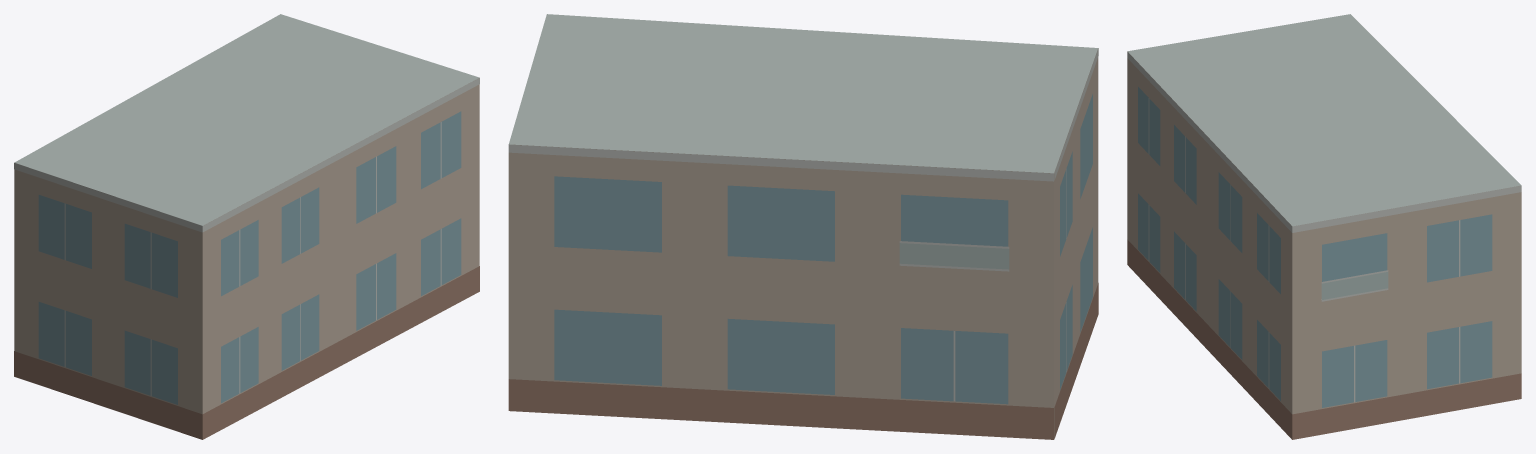
Rendered from survey-upis-32977912.glb.
3 views of the same model, side by side, from view 1: azimuth 30°, elevation 25°; view 2: azimuth 150°, elevation 25°; view 3: azimuth 270°, elevation 25° (orthographic). The views are drawn at different scales.
Visible parts, largest first — view 1: survey-upis-32977912.tmp; view 2: survey-upis-32977912.tmp; view 3: survey-upis-32977912.tmp.
Boxes of the visible parts, x1,y1,x2,y2 form: survey-upis-32977912.tmp: (14, 14, 479, 439); survey-upis-32977912.tmp: (508, 14, 1098, 439); survey-upis-32977912.tmp: (1127, 14, 1521, 439).
Bounding box in the file's own units: 16.87 × 7.9 × 13.24.
